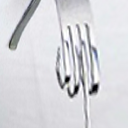Fork: (1, 1, 114, 123)
